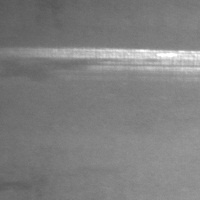scratches: (22, 47, 199, 81)
